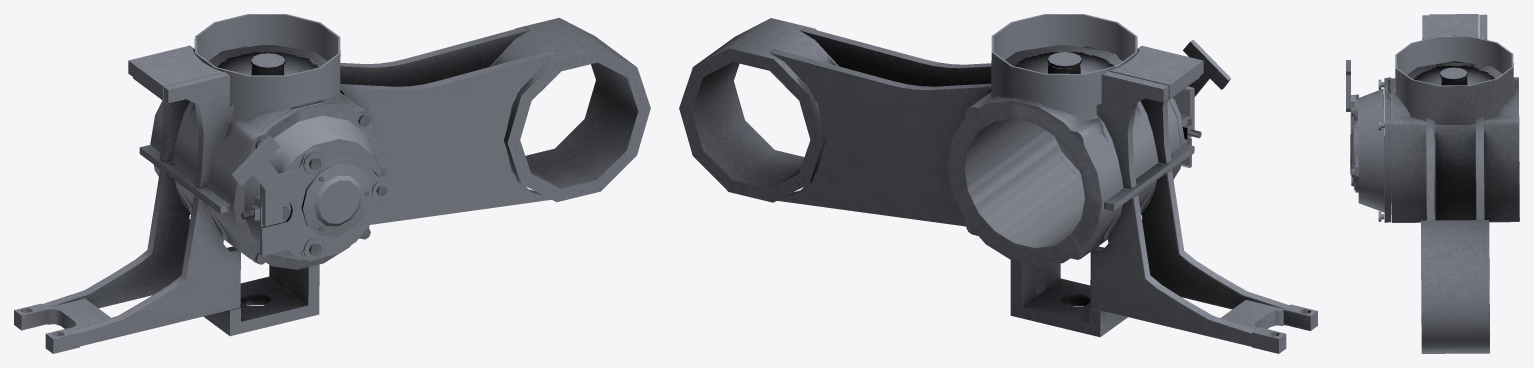
Rendered from duangai003.FBX.
3 renders of one model, left to right at view 1: azimuth 30°, elevation 25°; view 2: azimuth 150°, elevation 25°; view 3: azimuth 270°, elevation 25°, orthographic. The views are drawn at different scales.
Parts seen in each view (by area): view 1: Object089; view 2: Object089; view 3: Object089.
Part boxes in pixels (x1,y1,x2,y2): Object089: [14, 14, 650, 353]; Object089: [679, 14, 1317, 353]; Object089: [1346, 14, 1519, 353].
Size of the model in its own units: 0.8398 by 0.3559 by 0.2609.
